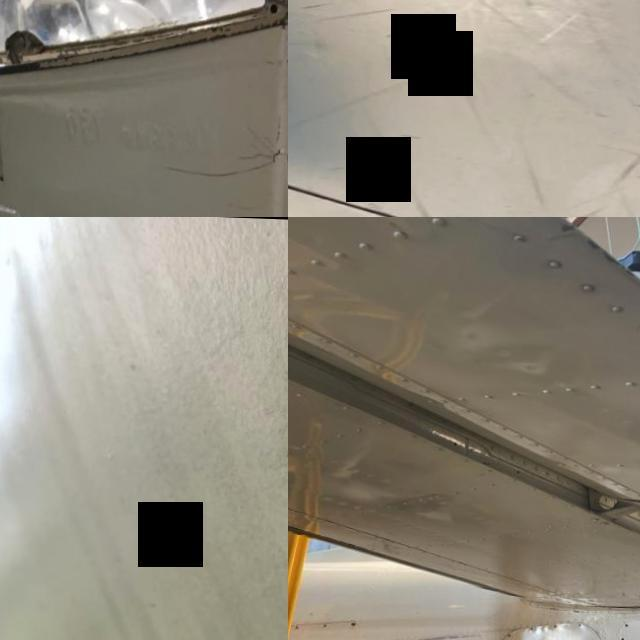Crack: (127, 101, 288, 196)
Missing_Fastener: (622, 634, 626, 638), (626, 621, 630, 624), (580, 620, 583, 624), (508, 632, 514, 634)
